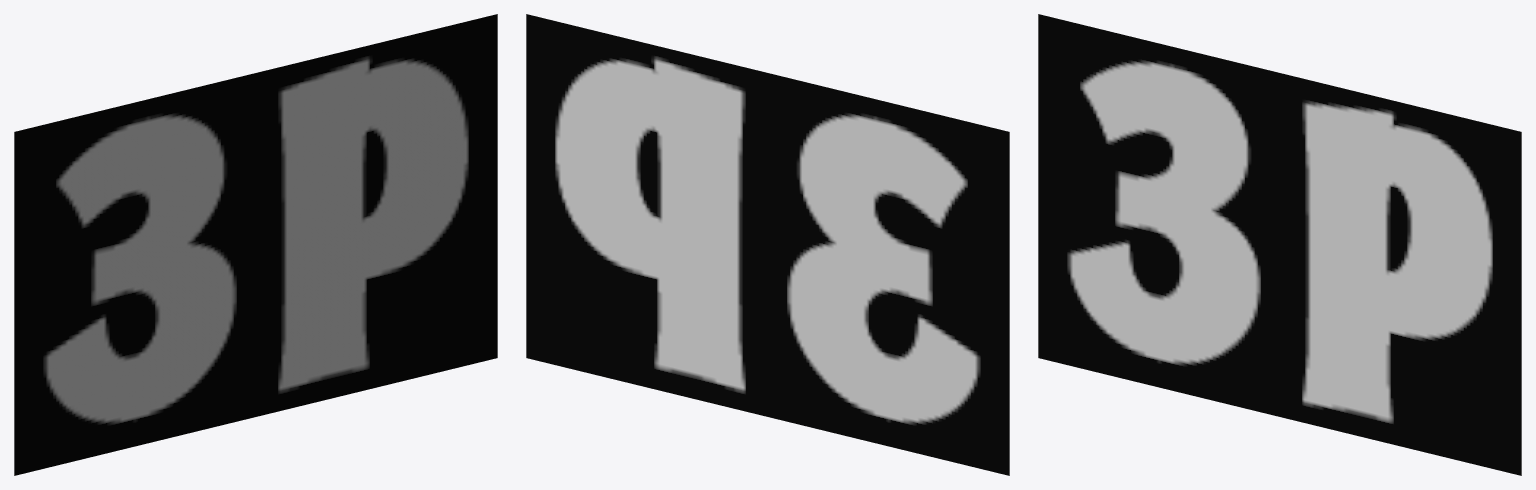
3 views of the same model, side by side, from view 1: azimuth 30°, elevation 25°; view 2: azimuth 150°, elevation 25°; view 3: azimuth 330°, elevation 25° (orthographic).
Visible parts, largest first — view 1: Joint_0_Object_0; view 2: Joint_0_Object_0; view 3: Joint_0_Object_0.
Part boxes in pixels (x1,y1,x2,y2): Joint_0_Object_0: (14,14,497,475); Joint_0_Object_0: (526,14,1009,475); Joint_0_Object_0: (1038,14,1521,475).
Size of the model in its own units: 1061 by 722 by 0.
Materials: 1 (1 with a texture image).
